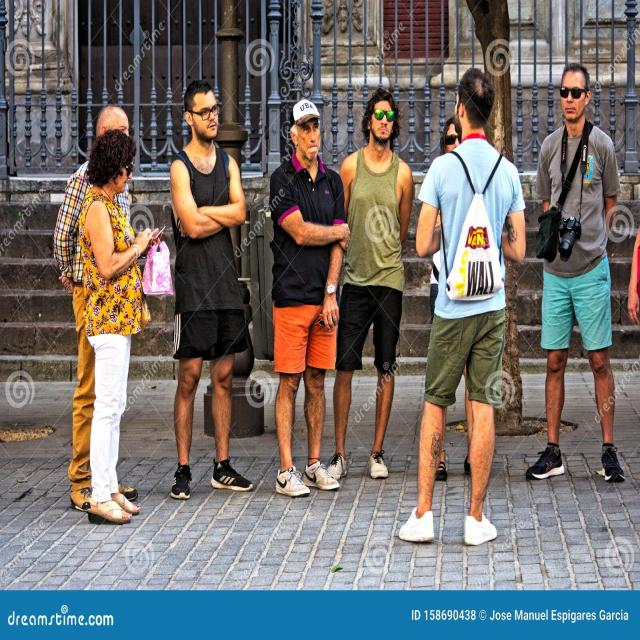human: (412, 69, 508, 554), (156, 76, 254, 508), (528, 65, 625, 492), (47, 95, 139, 508), (326, 100, 417, 477), (265, 89, 338, 499), (78, 130, 150, 522)
